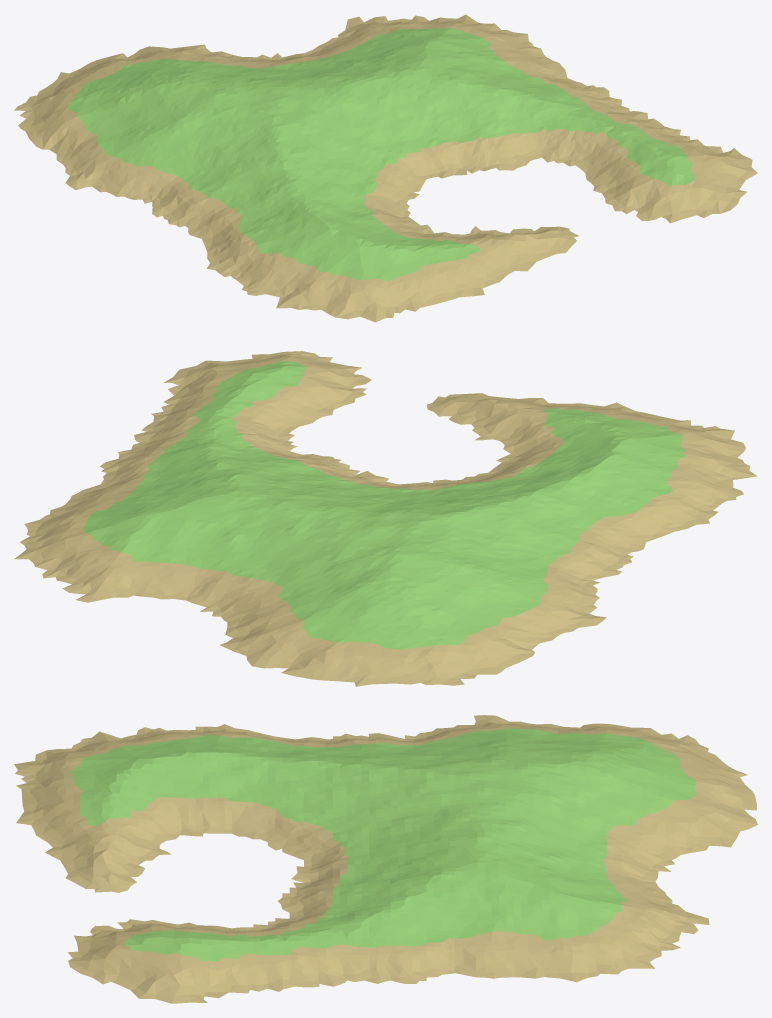
Rendered from CPT_Island_H_b_05_LOD.fbx.
3 renders of one model, top to bottom at view 1: azimuth 30°, elevation 25°; view 2: azimuth 150°, elevation 25°; view 3: azimuth 270°, elevation 25°, orthographic. The views are drawn at different scales.
Visible parts, largest first — view 1: CPT_Island_H_b_05_LOD0; view 2: CPT_Island_H_b_05_LOD0; view 3: CPT_Island_H_b_05_LOD0.
Boxes of the visible parts, <box> form: CPT_Island_H_b_05_LOD0: <box>14,14,757,322</box>; CPT_Island_H_b_05_LOD0: <box>14,351,757,686</box>; CPT_Island_H_b_05_LOD0: <box>14,715,757,1003</box>.
Size of what is drawn, in the model's own units: 37218 by 2494 by 40566.
